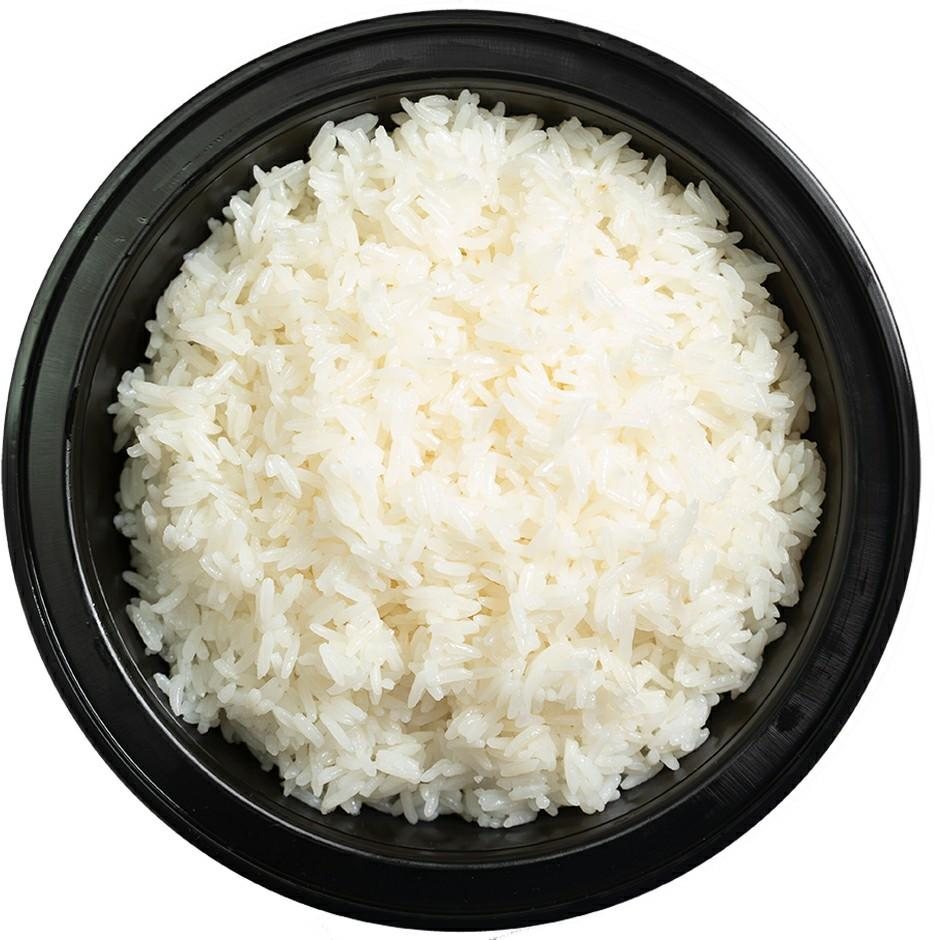WhiteRice: (103, 88, 824, 827)
